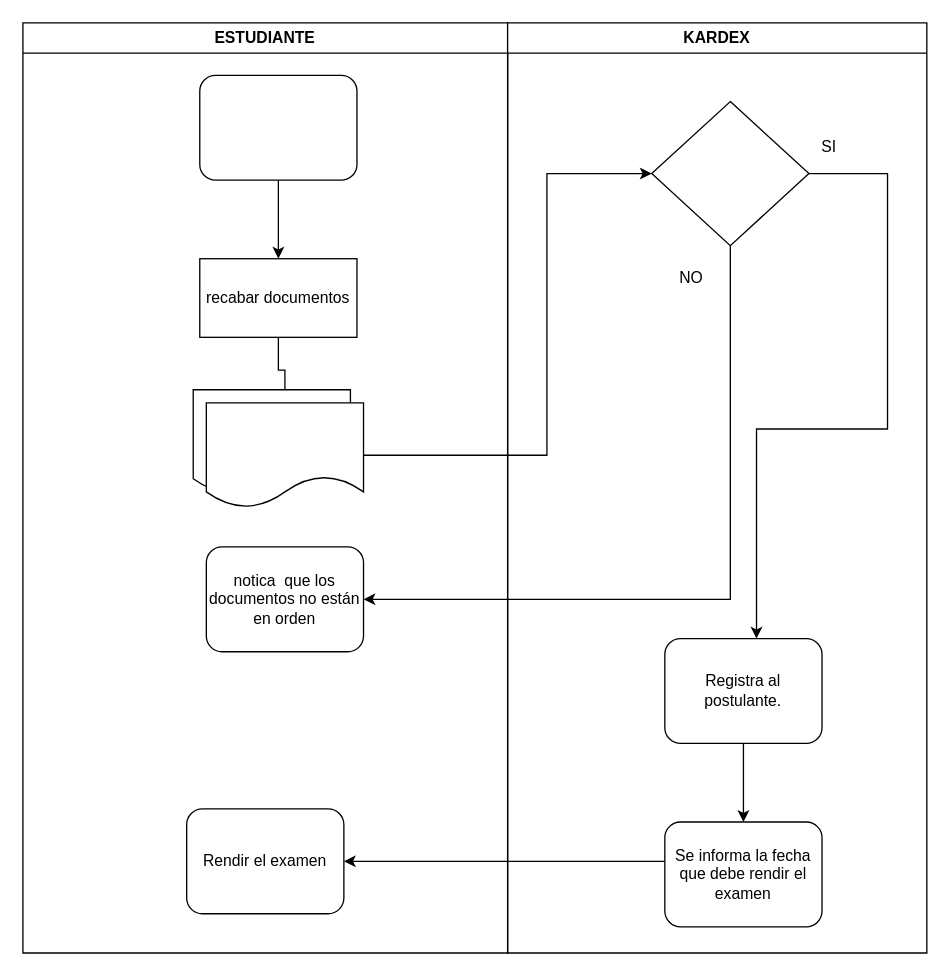
The diagram is 950 pixels wide and 976 high, and some of its shapes have lost their labels. Here are the shapes that lost their labels. From the top down, the centre of each, then its label:
point (277, 127): Averiguar fecha de inscripción
point (729, 173): Documentos correctos?
point (284, 455): Presentar documenmtos y certificado de habilitación
